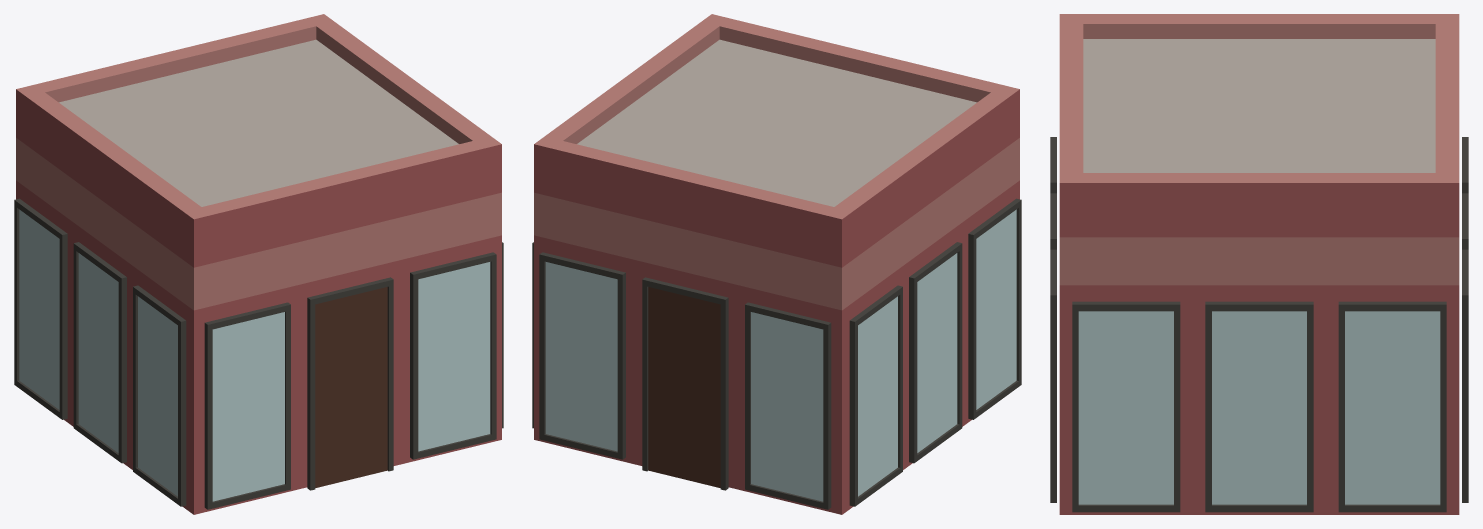
File: building_small.fbx
3 views of the same model, side by side, from view 1: azimuth 30°, elevation 25°; view 2: azimuth 150°, elevation 25°; view 3: azimuth 270°, elevation 25° (orthographic). The views are drawn at different scales.
Parts seen in each view (by area): view 1: roof2, building_small, door1, window9, window10, window3, window4, window5; view 2: roof2, building_small, door2, window7, window6, window3, window4, window5; view 3: roof2, building_small, window, window1, window2, window7, window9.
Part boxes in pixels (x1,y1,x2,y2): roof2: [16, 14, 501, 245]; building_small: [16, 116, 501, 514]; door1: [307, 277, 393, 490]; window9: [410, 252, 496, 459]; window10: [204, 302, 290, 509]; window3: [133, 285, 186, 506]; window4: [14, 198, 67, 419]; window5: [73, 242, 126, 463]; roof2: [534, 14, 1019, 245]; building_small: [534, 116, 1019, 514]; door2: [642, 277, 728, 490]; window7: [539, 252, 625, 459]; window6: [745, 302, 831, 509]; window3: [968, 198, 1021, 419]; window4: [849, 285, 902, 506]; window5: [909, 242, 962, 463]; roof2: [1059, 14, 1459, 212]; building_small: [1059, 213, 1459, 514]; window: [1205, 301, 1313, 512]; window1: [1072, 301, 1180, 512]; window2: [1338, 301, 1446, 512]; window7: [1462, 249, 1468, 502]; window9: [1050, 249, 1056, 502].
Bounding box in the file's own units: 628 × 550 × 628.
